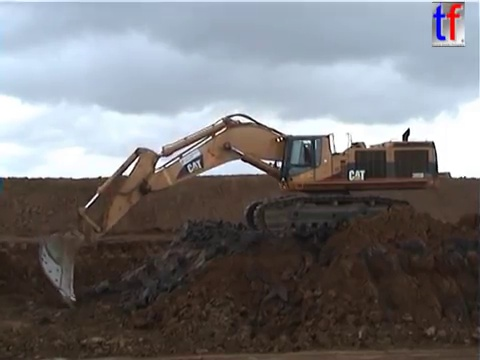excavator: (35, 110, 441, 311)
truck: (384, 169, 455, 196)
